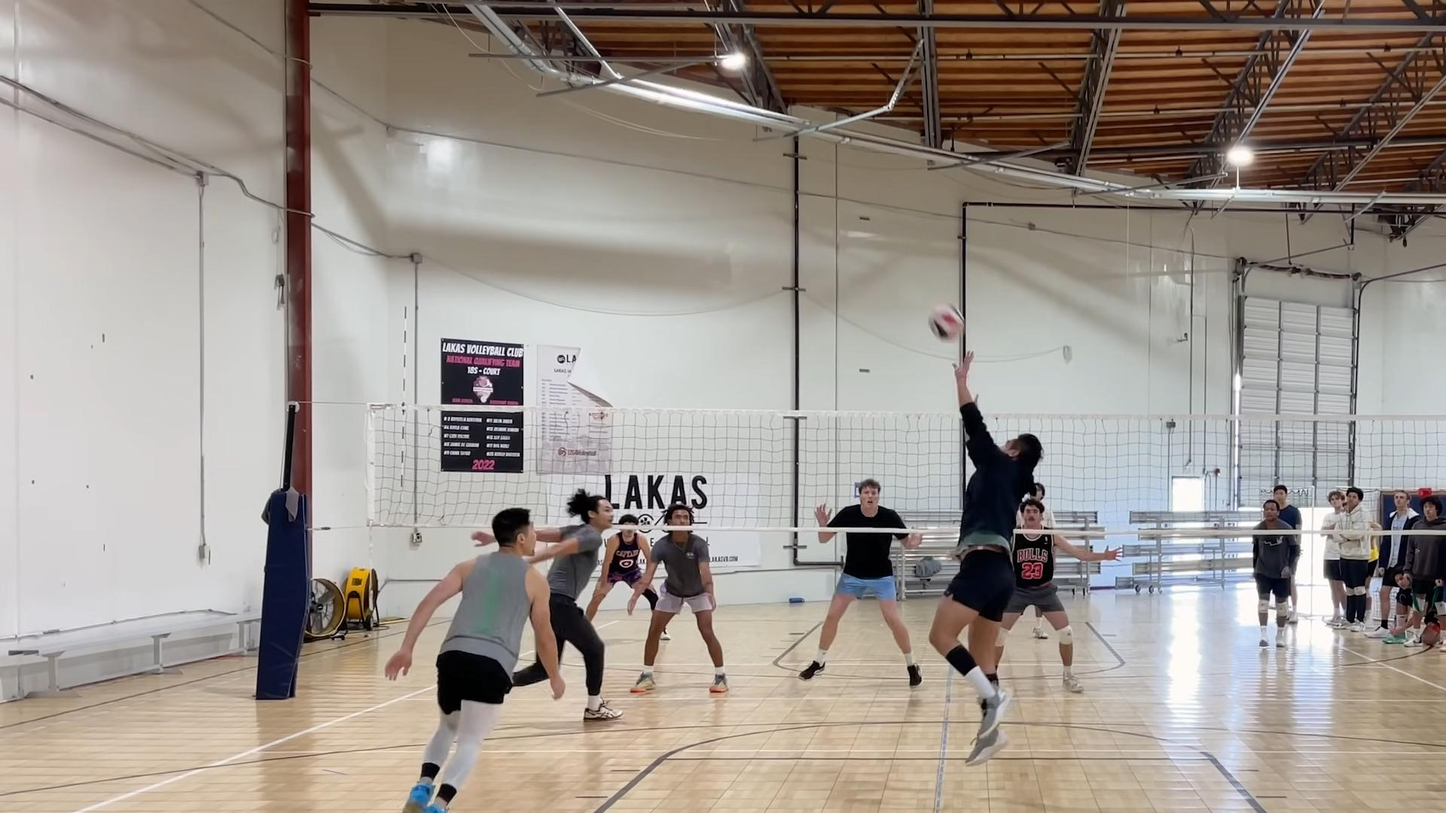alzata: (928, 347, 1041, 764)
